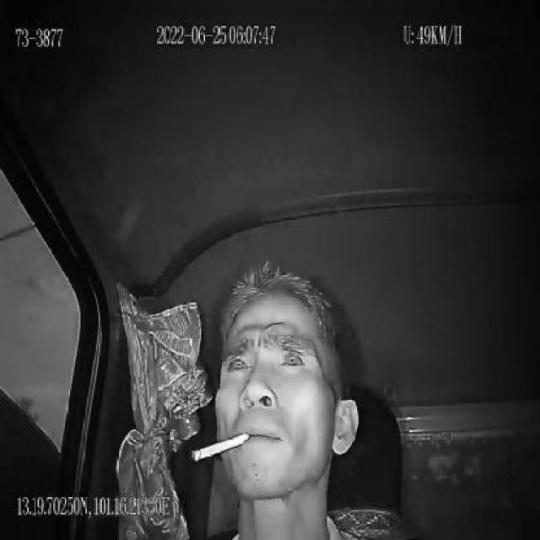smoking: (190, 431, 250, 462)
